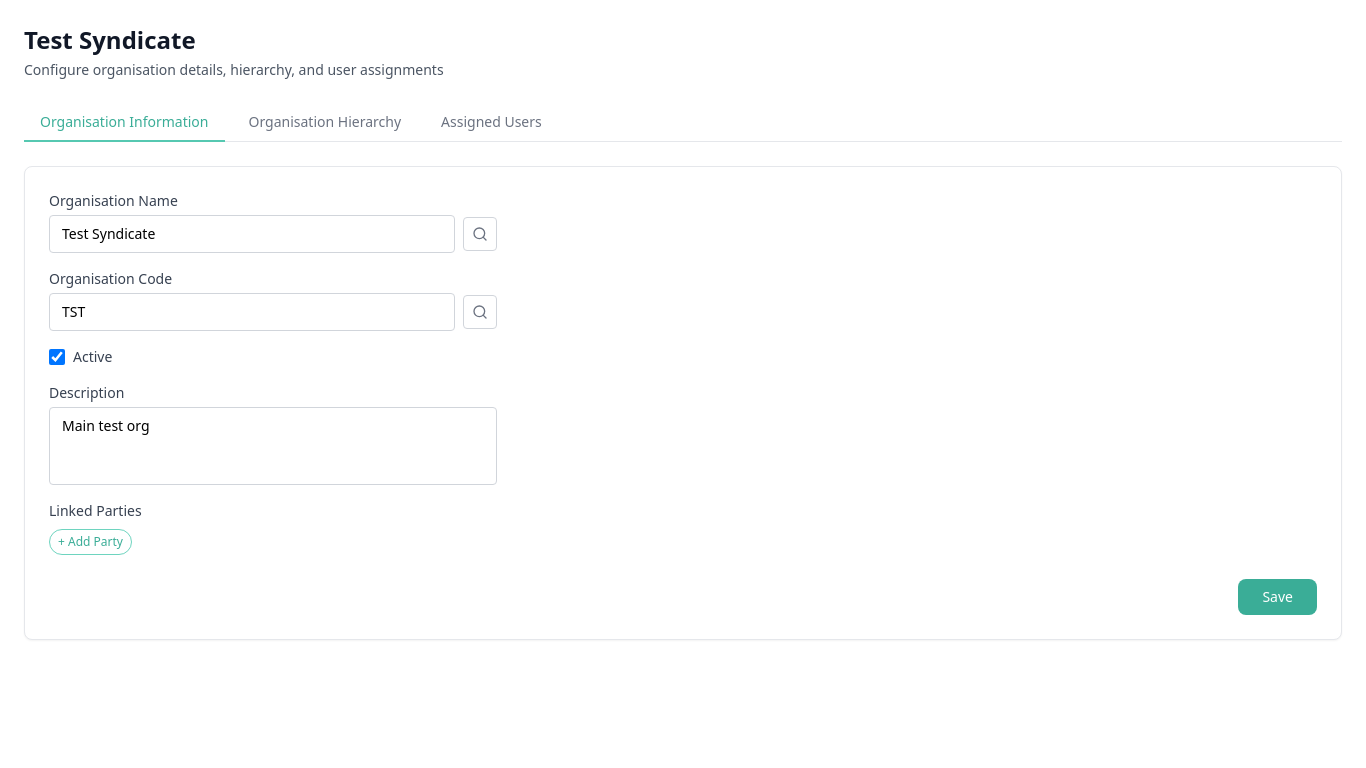
Test case: T-settings-org-R06: Hierarchy tab shows Hierarchy Levels card with add form › renders Hierarchy Levels table with loaded level names
expect the field showing "Test Syndicate" below "Organisation Name" is shown: met, box top-left (49, 215), bottom-right (455, 253)
Click the tab "Organisation Hierarchy". click: (325, 123)
box: top-left (232, 104), bottom-right (417, 142)
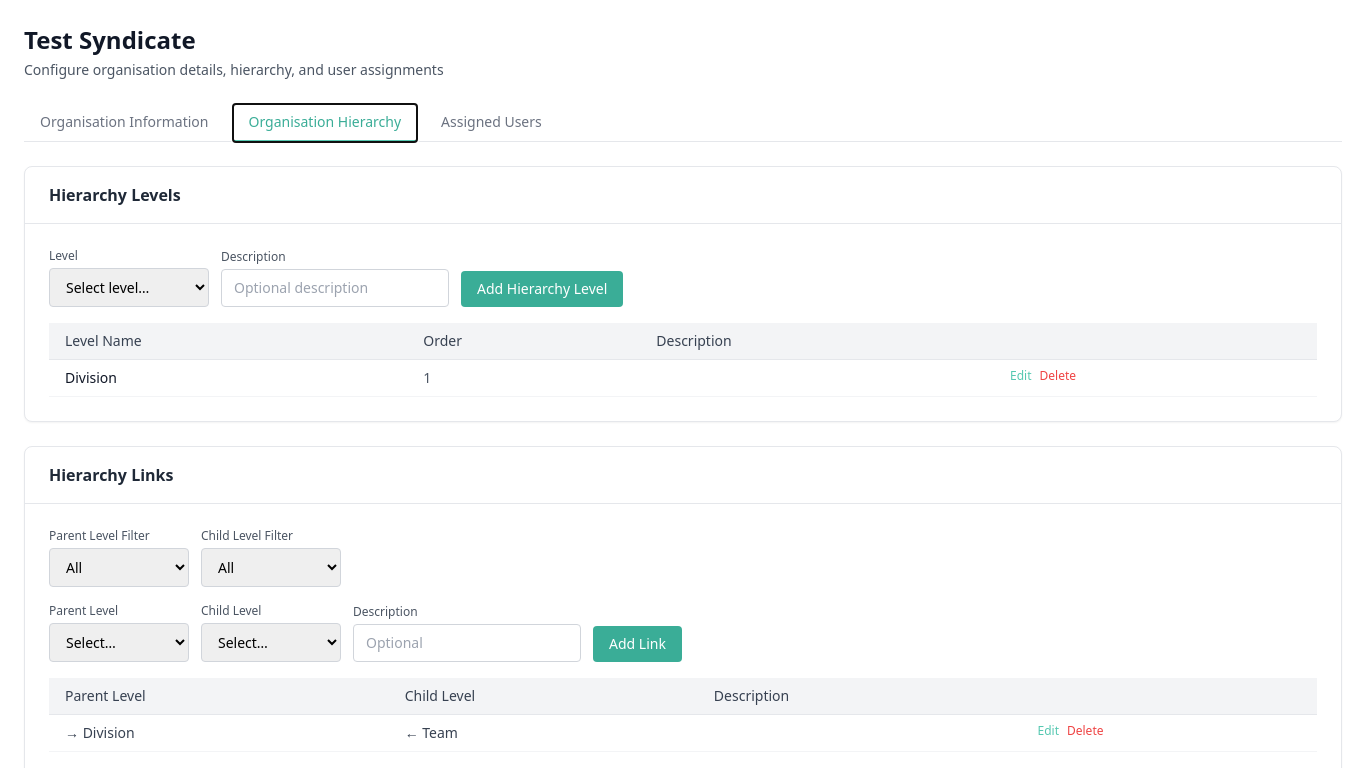
expect the text "Division" is shown: met, box top-left (49, 360), bottom-right (407, 396)
